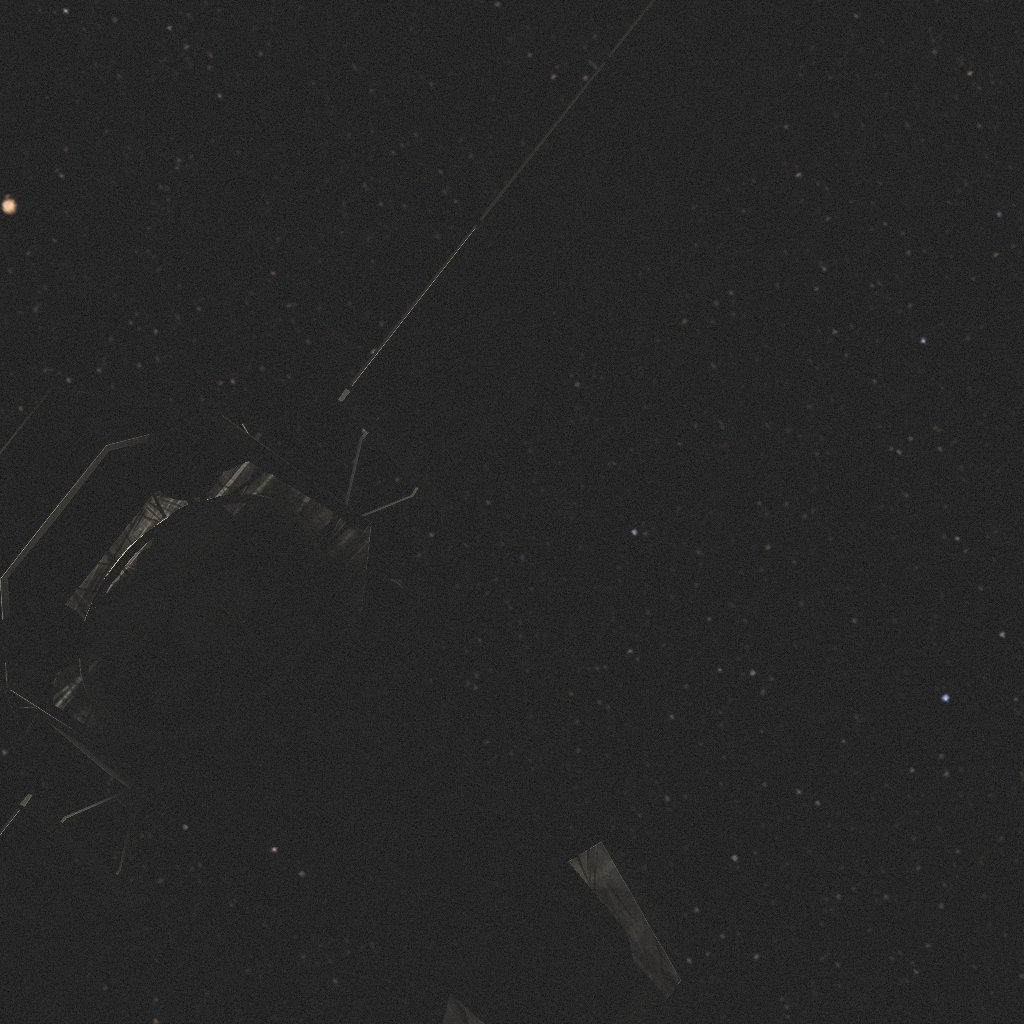xmm_newton: (0, 0, 825, 1024)
